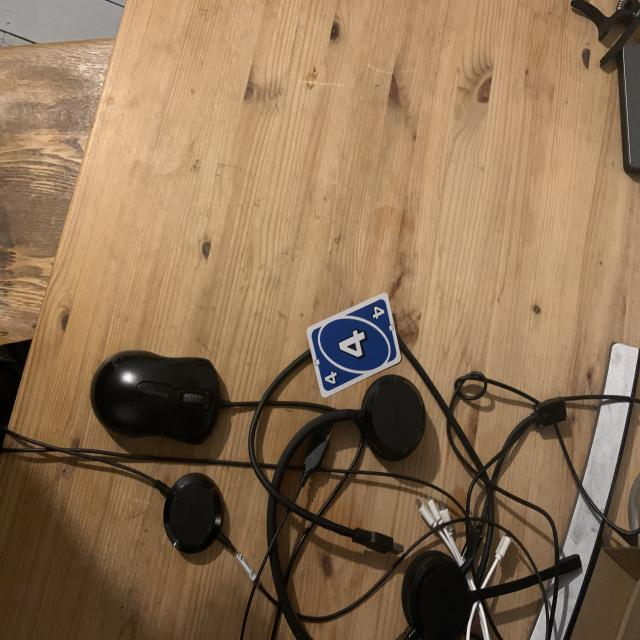lblue-4: (367, 302, 388, 323)
